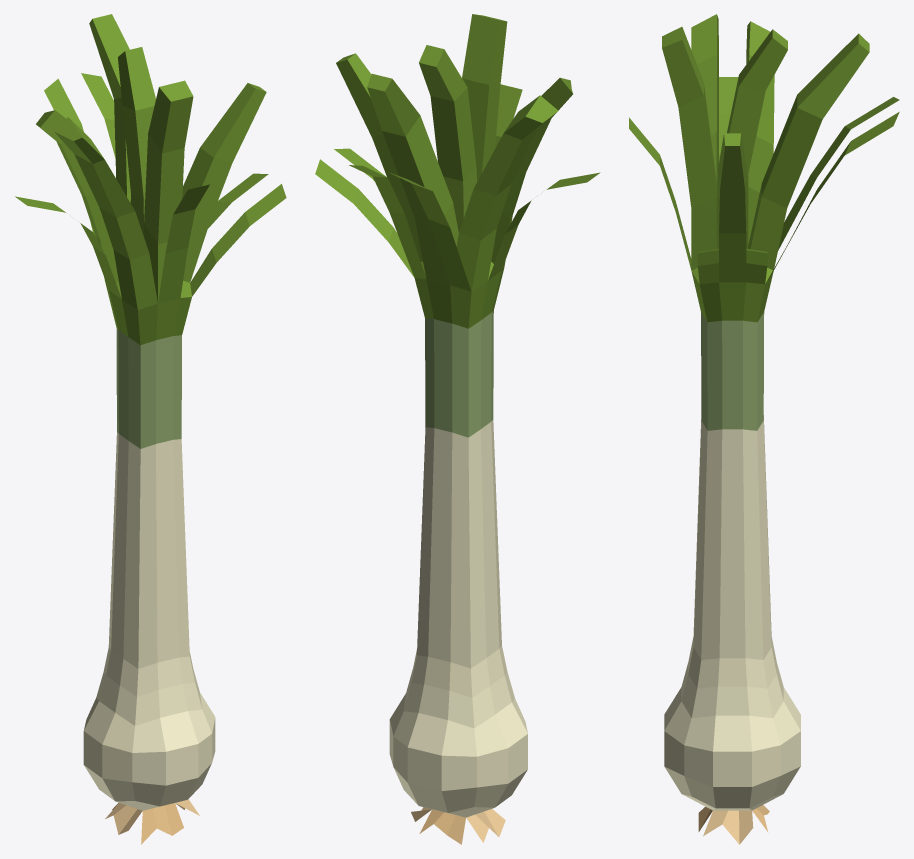
File: leek.fbx
3 renders of one model, left to right at view 1: azimuth 30°, elevation 25°; view 2: azimuth 150°, elevation 25°; view 3: azimuth 270°, elevation 25°, orthographic. The views are drawn at different scales.
Parts seen in each view (by area): view 1: leek; view 2: leek; view 3: leek.
Part boxes in pixels (left/top/right/bottom): leek: left=15, top=14, right=286, bottom=844; leek: left=315, top=14, right=600, bottom=844; leek: left=629, top=14, right=899, bottom=844.
Size of the model in its own units: 124 by 356 by 109.
